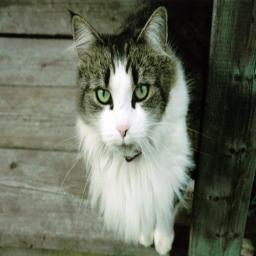catnose: (116, 123, 132, 138)
